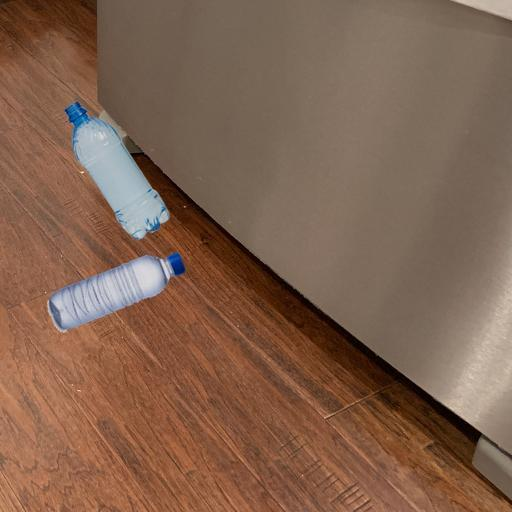bottle: (47, 0, 159, 85), (112, 246, 115, 336)
